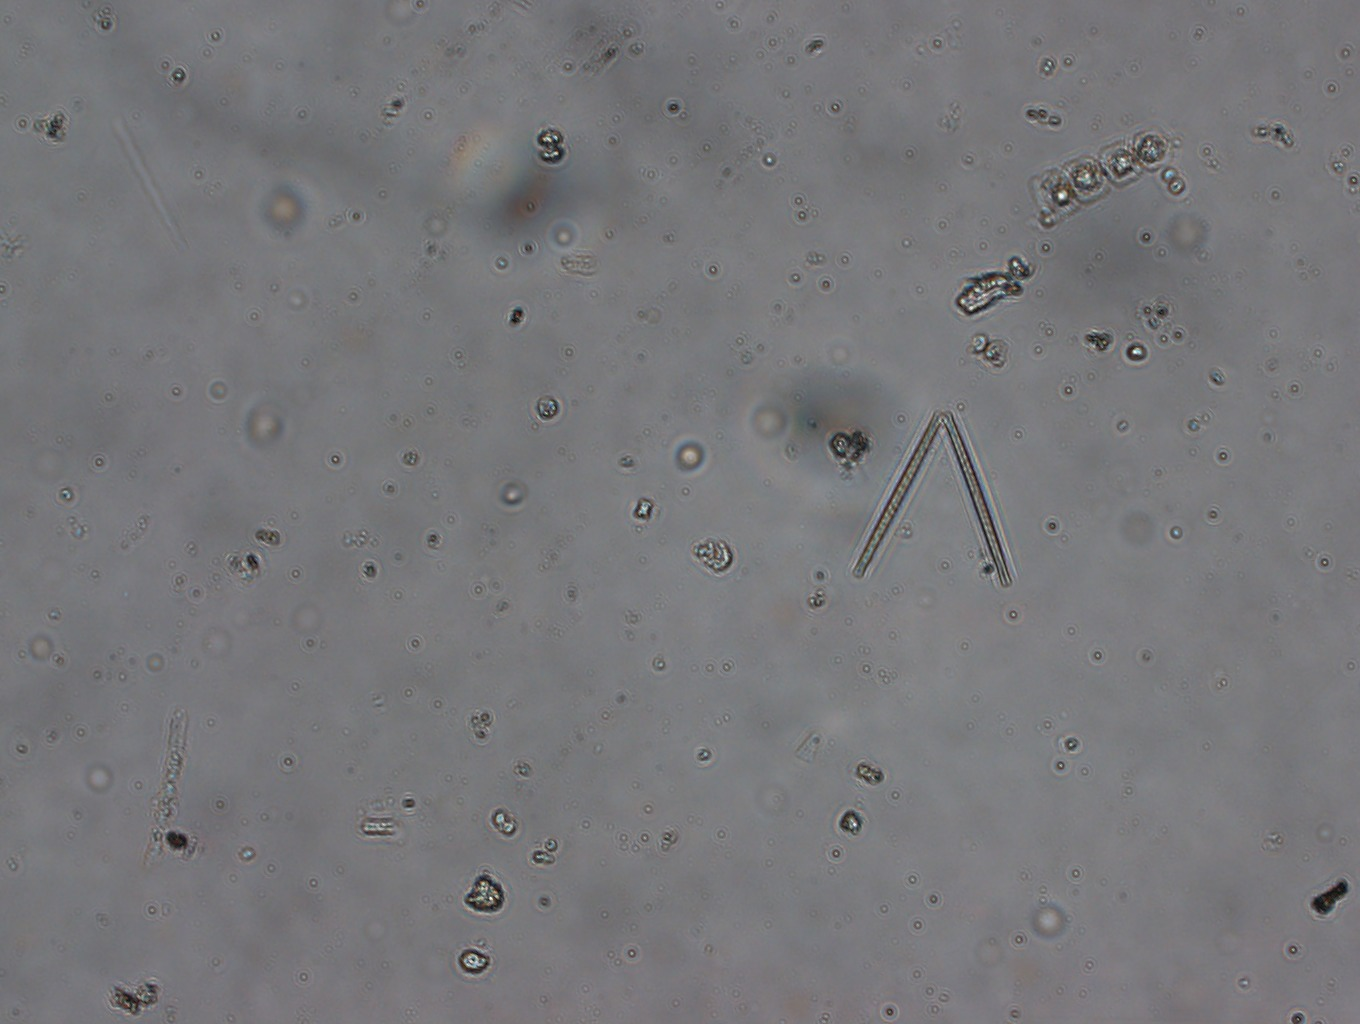detonula pumila: (1014, 116, 1203, 238)
thalassionema frauenfeldii: (844, 401, 1025, 598)
